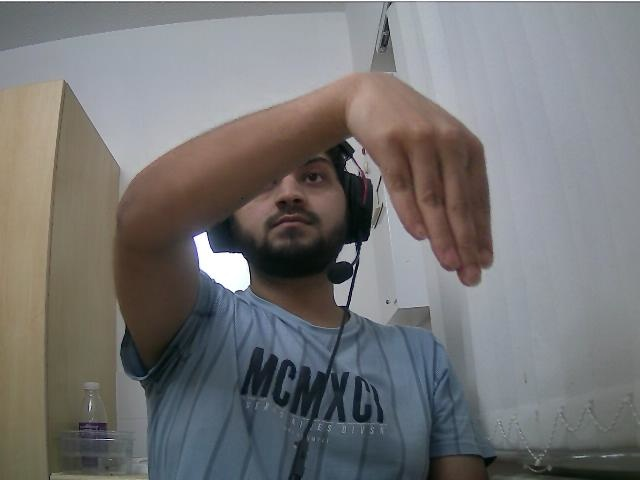down: (347, 71, 495, 291)
